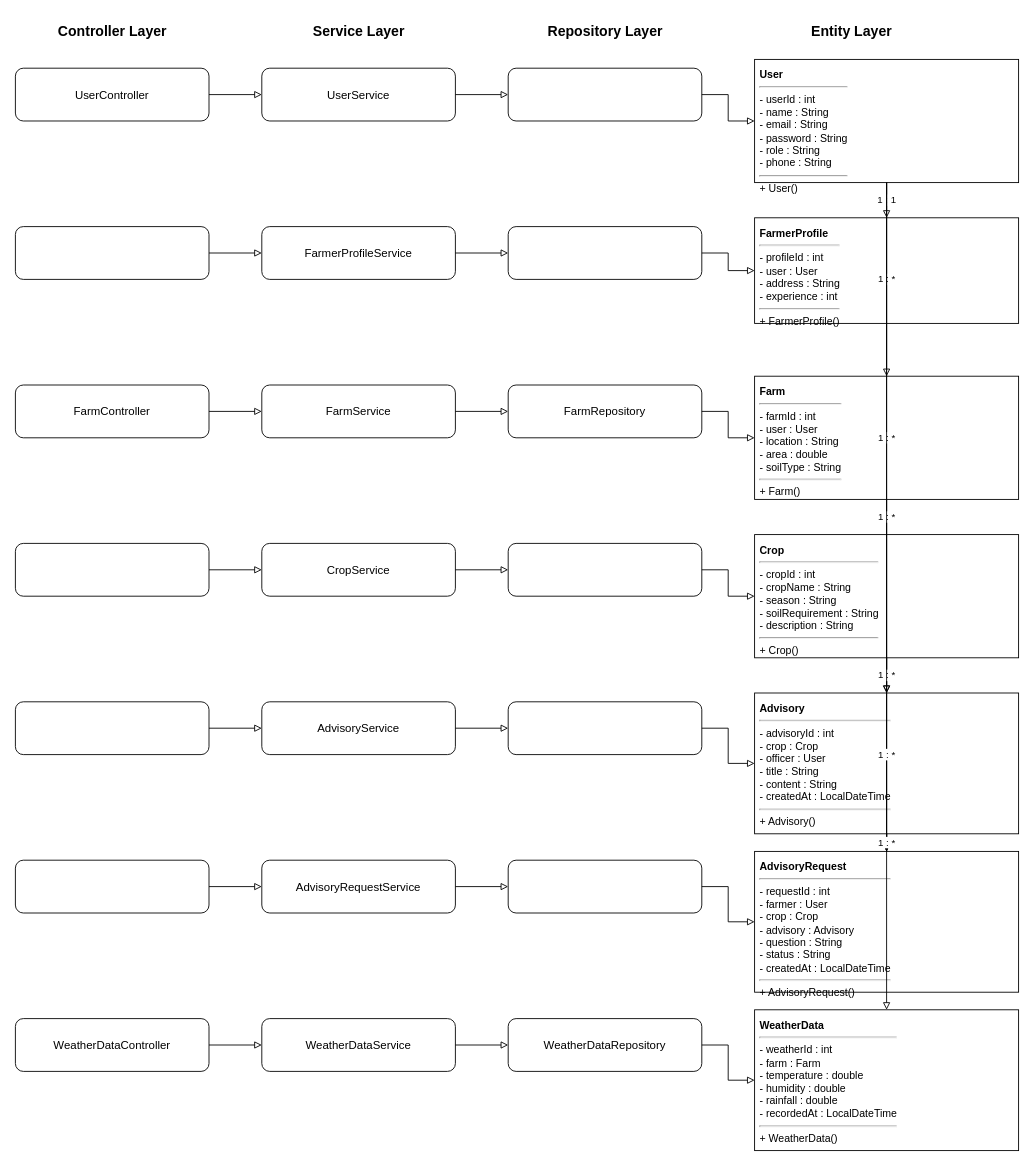
This 1034x1166 diagram has some shape labels left out. Each missing label, with the centre of its shape:
"AdvisoryController" goes at (x=112, y=728).
"AdvisoryRepository" goes at (x=604, y=728).
"AdvisoryRequestController" goes at (x=112, y=886).
"AdvisoryRequestRepository" goes at (x=604, y=886).
"CropController" goes at (x=112, y=569).
"CropRepository" goes at (x=604, y=569).
"FarmerProfileController" goes at (x=112, y=252).
"FarmerProfileRepository" goes at (x=604, y=252).
"UserRepository" goes at (x=604, y=94).
